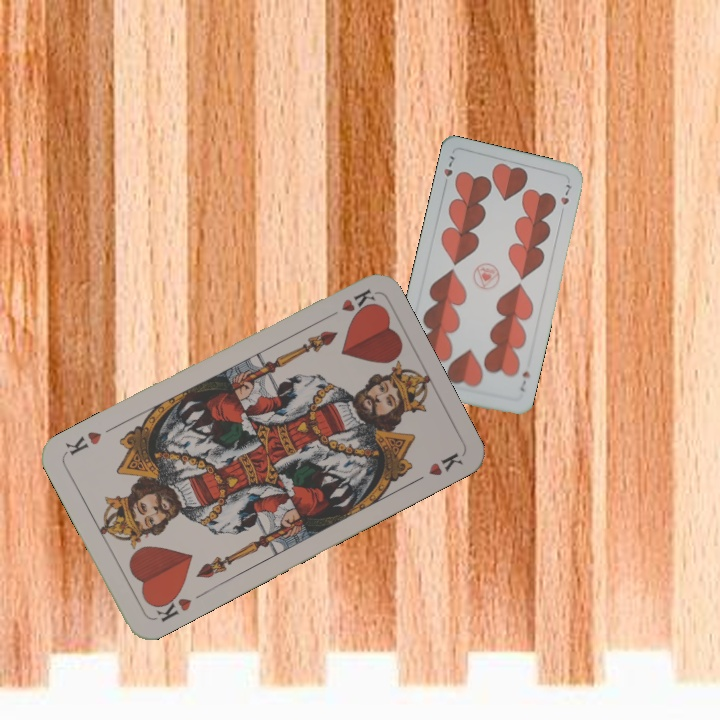H7: (440, 151, 457, 190), (516, 367, 533, 394)
HK: (320, 285, 378, 323), (148, 587, 194, 625)
